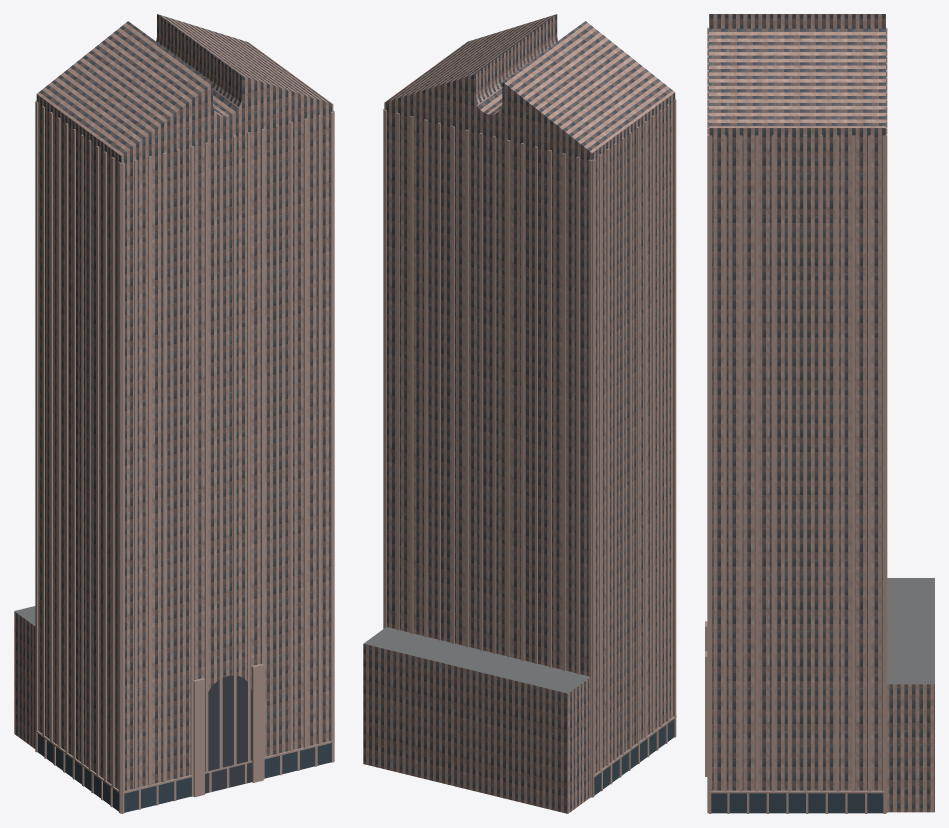
File: sony_building.glb
3 renders of one model, left to right at view 1: azimuth 30°, elevation 25°; view 2: azimuth 150°, elevation 25°; view 3: azimuth 270°, elevation 25°, orthographic. The views are drawn at different scales.
Visible parts, largest first — view 1: sony_building; view 2: sony_building; view 3: sony_building.
Boxes of the visible parts, left/top/right/bottom form: sony_building: left=14, top=14, right=334, bottom=813; sony_building: left=363, top=14, right=676, bottom=813; sony_building: left=705, top=14, right=934, bottom=813.
Size of the model in its own units: 62.19 by 196 by 55.3.
2 materials, 2 textured.
